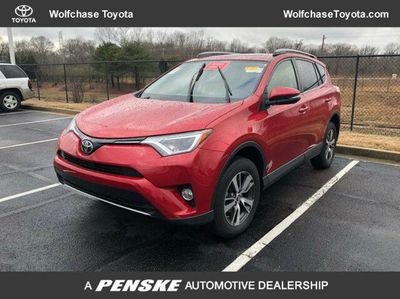Toyota RAV-4: (52, 49, 344, 241)
